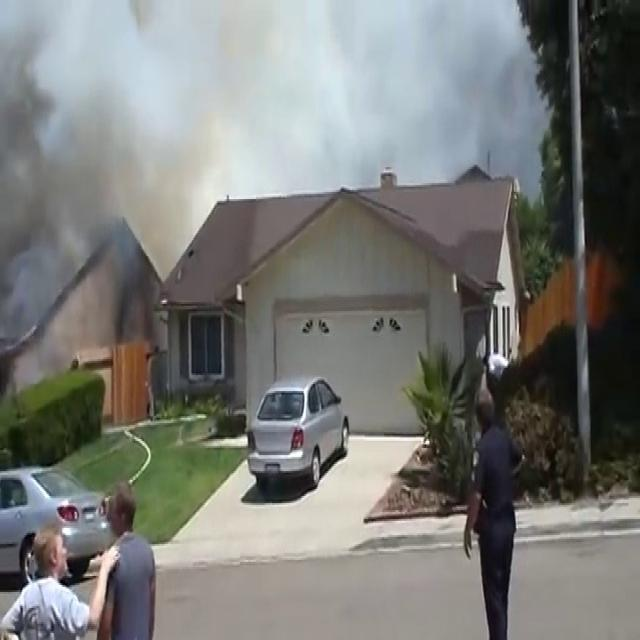Smoke: (0, 0, 186, 380)
